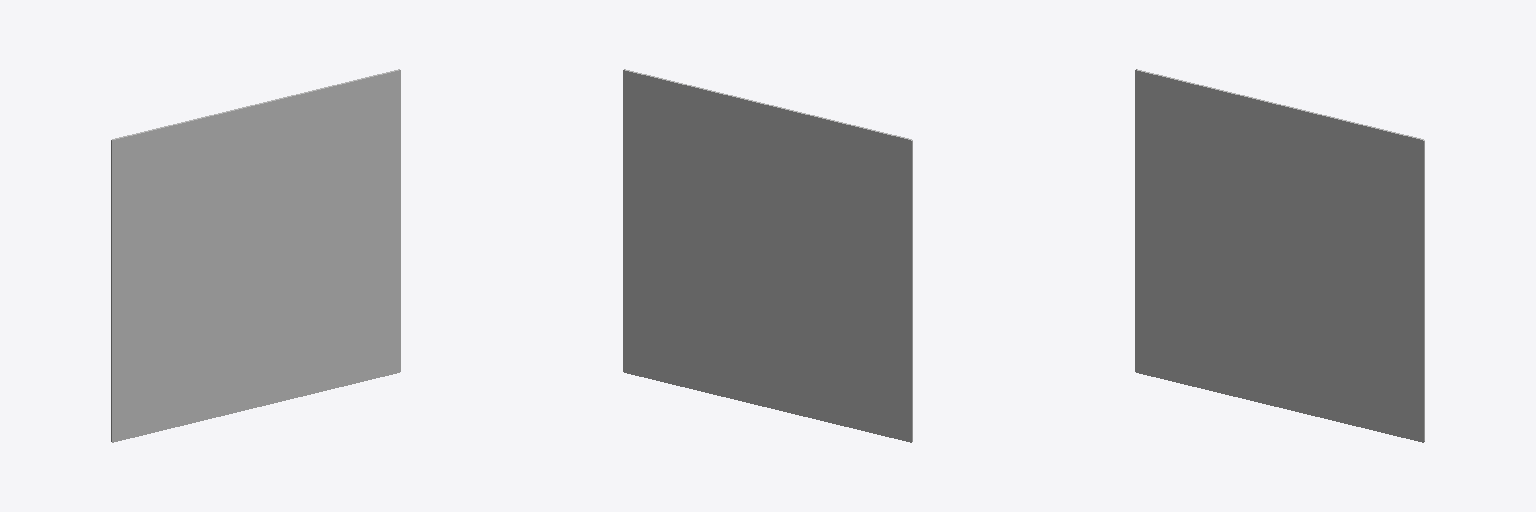
File: blocks-grass-20m.obj
3 views of the same model, side by side, from view 1: azimuth 30°, elevation 25°; view 2: azimuth 150°, elevation 25°; view 3: azimuth 330°, elevation 25° (orthographic).
Parts seen in each view (by area): view 1: blocks-grass-20m_Plane.053; view 2: blocks-grass-20m_Plane.053; view 3: blocks-grass-20m_Plane.053.
Part boxes in pixels (x1,y1,x2,y2): blocks-grass-20m_Plane.053: (111, 69, 400, 442); blocks-grass-20m_Plane.053: (623, 69, 912, 442); blocks-grass-20m_Plane.053: (1135, 69, 1424, 442).
Size of the model in its own units: 20 by 20 by 0.15.